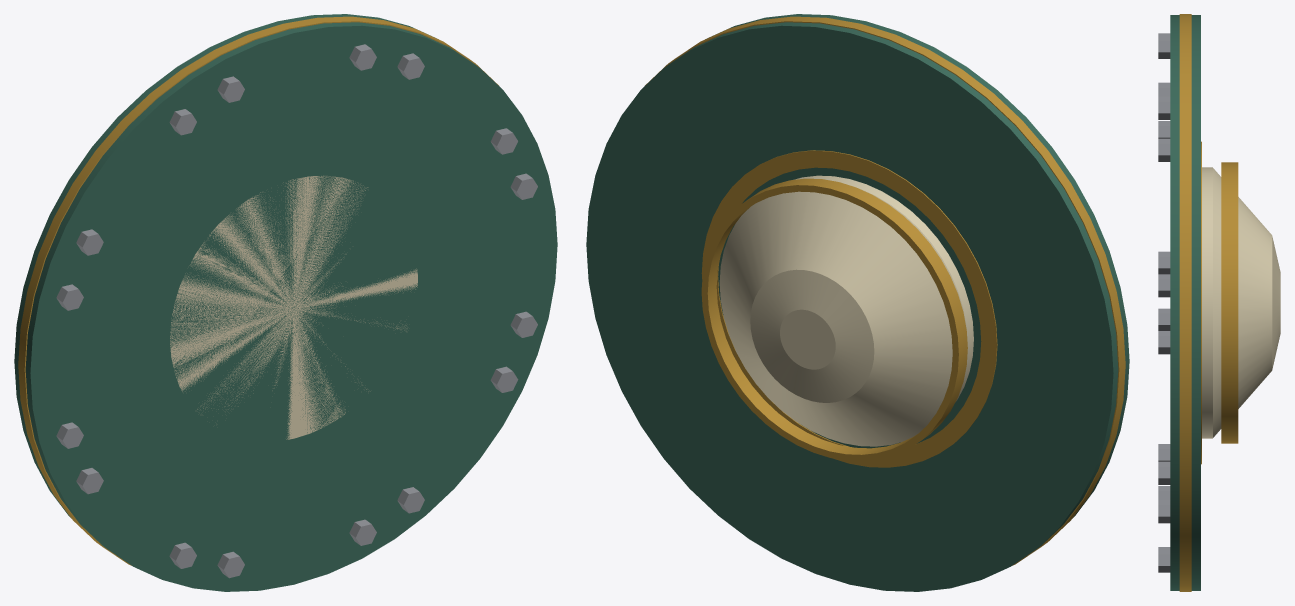
File: tank4200_coupler_fore.obj
The picture shows the model from 3 angles, left to right: view 1: azimuth 30°, elevation 25°; view 2: azimuth 150°, elevation 25°; view 3: azimuth 270°, elevation 25°; orthographic projection. The views are drawn at different scales.
Visible parts, largest first — view 1: tank4200_coupler_fore; view 2: tank4200_coupler_fore; view 3: tank4200_coupler_fore.
Boxes of the visible parts, box(x1,y1,x2,y2) form: tank4200_coupler_fore: box(14, 14, 557, 591); tank4200_coupler_fore: box(586, 14, 1129, 591); tank4200_coupler_fore: box(1158, 14, 1280, 591).
Size of the model in its own units: 3.41 by 3.41 by 0.7214.
